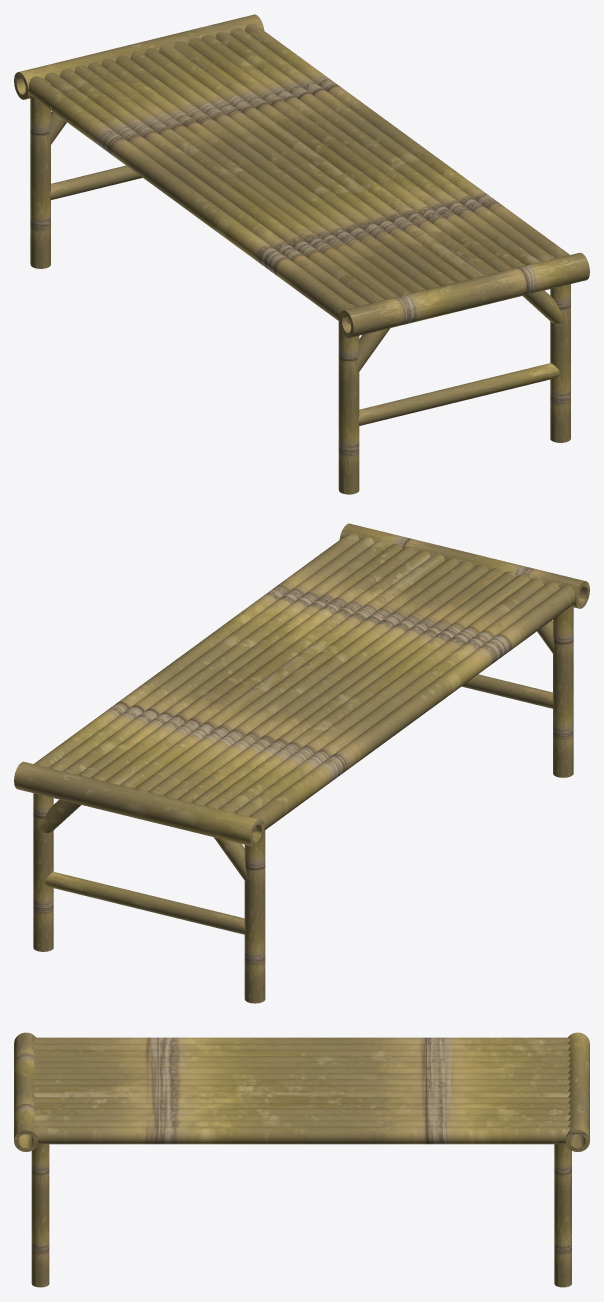
File: Bamboo-Table.fbx
3 views of the same model, one above another, from view 1: azimuth 30°, elevation 25°; view 2: azimuth 150°, elevation 25°; view 3: azimuth 270°, elevation 25° (orthographic). The views are drawn at different scales.
Parts seen in each view (by area): view 1: j1, aa, s, polySurface34, cc, polySurface32, aaa, ccc, bb, bbb; view 2: j1, aaa, polySurface34, s, ccc, polySurface33, aa, cc, bbbb, bbbbb; view 3: j1, polySurface32, polySurface33, aaa, aa.
Boxes of the visible parts, x1=… form: j1: x1=28, y1=23, x2=569, y2=321; aa: x1=339, y1=252, x2=589, y2=337; s: x1=338, y1=304, x2=359, y2=494; polySurface34: x1=30, y1=79, x2=50, y2=268; cc: x1=358, y1=363, x2=559, y2=425; polySurface32: x1=550, y1=255, x2=570, y2=442; aaa: x1=14, y1=14, x2=264, y2=99; ccc: x1=50, y1=165, x2=142, y2=199; bb: x1=523, y1=290, x2=563, y2=323; bbb: x1=356, y1=328, x2=390, y2=371; j1: x1=34, y1=533, x2=575, y2=831; aaa: x1=14, y1=761, x2=264, y2=846; polySurface34: x1=244, y1=813, x2=265, y2=1003; s: x1=553, y1=588, x2=573, y2=777; ccc: x1=45, y1=871, x2=245, y2=934; polySurface33: x1=33, y1=764, x2=53, y2=951; aa: x1=339, y1=523, x2=589, y2=608; cc: x1=462, y1=674, x2=553, y2=708; bbbb: x1=39, y1=799, x2=80, y2=832; bbbbb: x1=213, y1=837, x2=248, y2=881; j1: x1=34, y1=1037, x2=570, y2=1144; polySurface32: x1=31, y1=1136, x2=49, y2=1287; polySurface33: x1=554, y1=1137, x2=571, y2=1287; aaa: x1=565, y1=1032, x2=589, y2=1151; aa: x1=14, y1=1032, x2=38, y2=1151.
Size of the model in its own units: 1.63 by 1.24 by 4.06.
